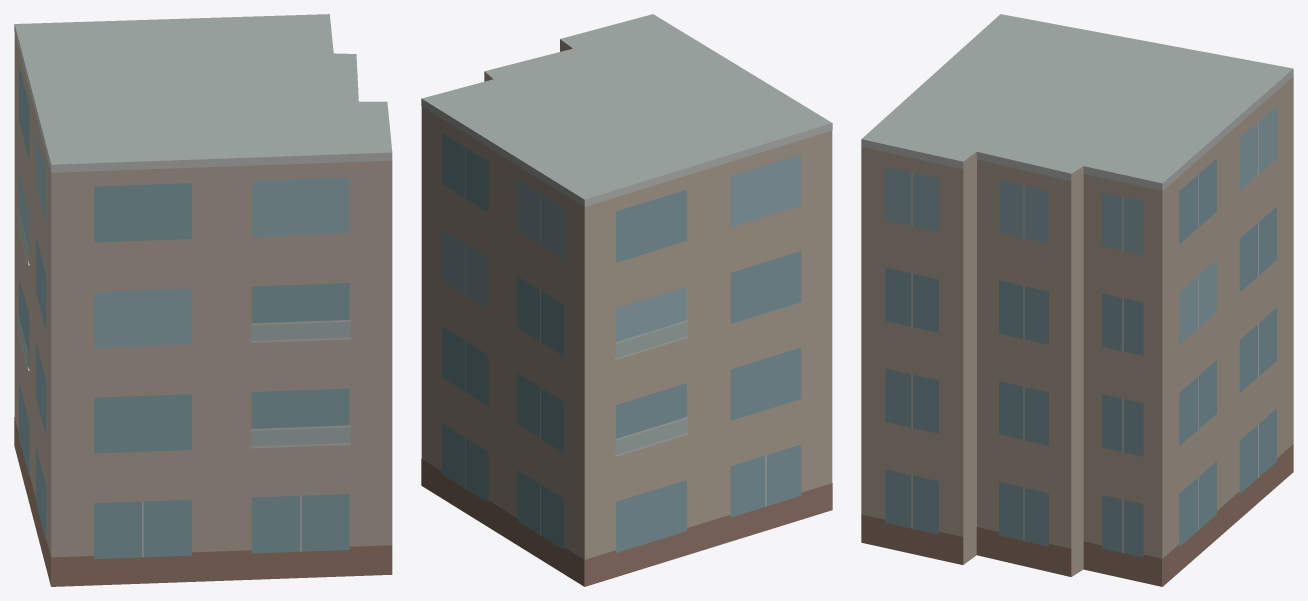
The model's file is survey-upis-33046413.glb.
3 renders of one model, left to right at view 1: azimuth 30°, elevation 25°; view 2: azimuth 150°, elevation 25°; view 3: azimuth 270°, elevation 25°, orthographic. The views are drawn at different scales.
Visible parts, largest first — view 1: survey-upis-33046413.tmp; view 2: survey-upis-33046413.tmp; view 3: survey-upis-33046413.tmp.
Boxes of the visible parts, left/top/right/bottom form: survey-upis-33046413.tmp: left=14, top=14, right=392, bottom=586; survey-upis-33046413.tmp: left=421, top=14, right=832, bottom=586; survey-upis-33046413.tmp: left=861, top=14, right=1293, bottom=586.
Size of the model in its own units: 11.54 by 12.8 by 12.44.
